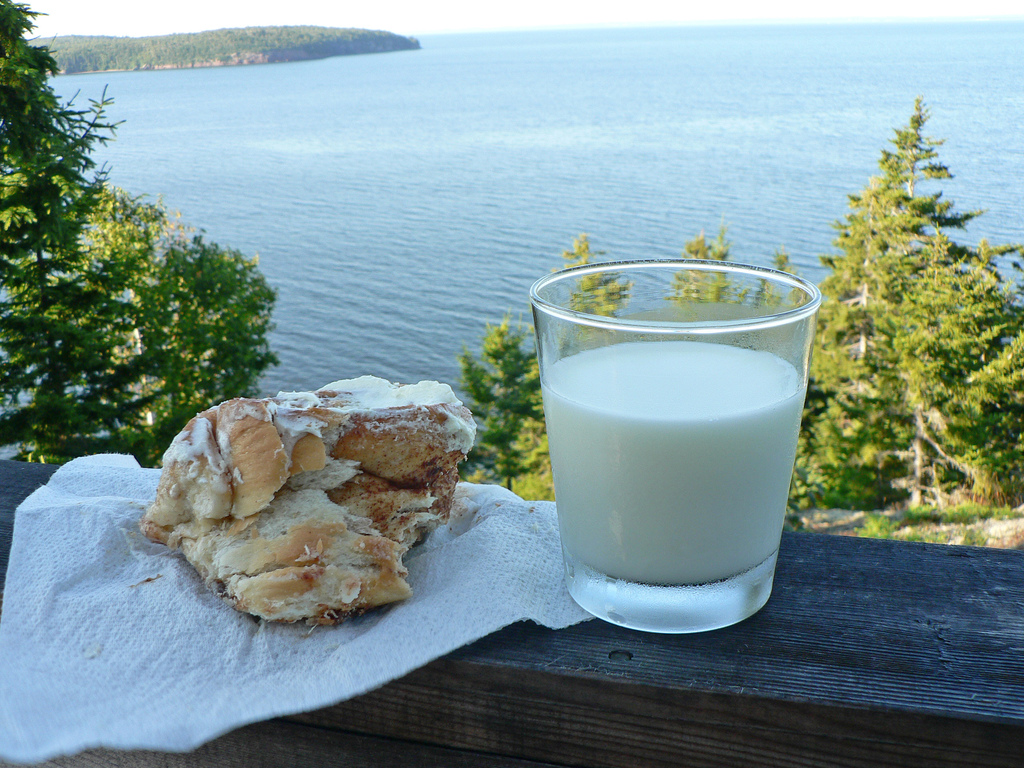glass of water: (542, 273, 796, 640)
slice of bread: (183, 427, 391, 614)
